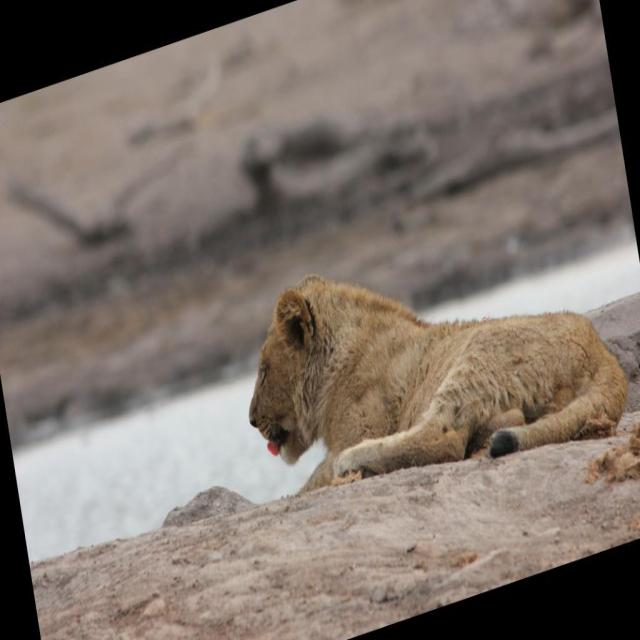Lion: (228, 173, 634, 546)
